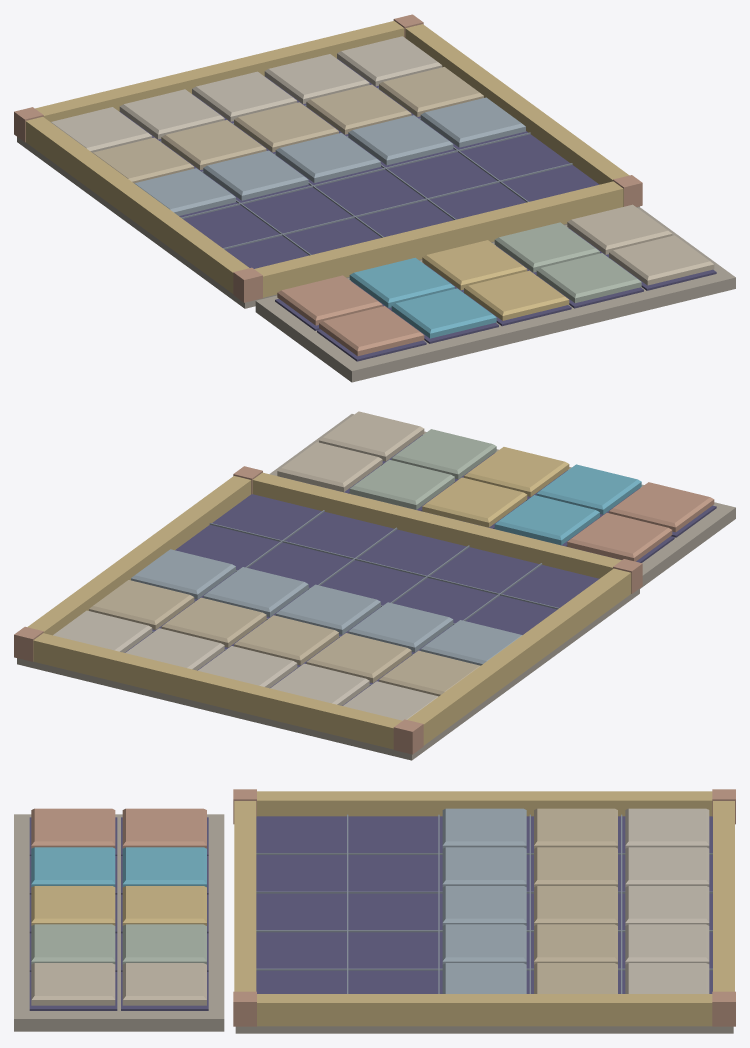
Rendered from assemble_5x5_with_rack_graybox.glb.
The picture shows the model from 3 angles, top to bottom: view 1: azimuth 30°, elevation 25°; view 2: azimuth 150°, elevation 25°; view 3: azimuth 270°, elevation 25°; orthographic projection. The views are drawn at different scales.
Visible parts, largest first — view 1: assemble.playfield, assemble.rack.base, assemble.frame.edge.south, assemble.frame.edge.west, assemble.frame.edge.north, assemble.frame.edge.east, assemble.piece.12.board, assemble.piece.24.rack, assemble.piece.11.board, assemble.piece.20.rack, assemble.piece.21.rack, assemble.piece.14.board (+25 smaller); view 2: assemble.playfield, assemble.frame.edge.north, assemble.frame.edge.south, assemble.frame.edge.west, assemble.frame.edge.east, assemble.support, assemble.piece.16.rack, assemble.piece.17.rack, assemble.piece.19.rack, assemble.piece.18.rack, assemble.piece.15.rack, assemble.piece.9.board (+23 smaller); view 3: assemble.playfield, assemble.frame.edge.east, assemble.rack.base, assemble.frame.edge.west, assemble.frame.edge.south, assemble.frame.edge.north, assemble.support, assemble.piece.24.rack, assemble.piece.19.rack, assemble.piece.0.board, assemble.piece.10.board, assemble.piece.20.rack (+28 smaller).
Boxes of the visible parts, box(x1,y1,x2,y2) form: assemble.playfield: box(120, 58, 598, 268); assemble.rack.base: box(255, 207, 735, 382); assemble.frame.edge.south: box(254, 181, 623, 297); assemble.frame.edge.west: box(25, 117, 249, 293); assemble.frame.edge.north: box(35, 21, 404, 121); assemble.frame.edge.east: box(405, 24, 629, 184); assemble.piece.12.board: box(275, 133, 380, 182); assemble.piece.24.rack: box(609, 235, 714, 285); assemble.piece.11.board: box(203, 150, 308, 200); assemble.piece.20.rack: box(319, 306, 424, 356); assemble.piece.21.rack: box(391, 288, 496, 338); assemble.piece.14.board: box(420, 97, 525, 147); assemble.playfield: box(125, 494, 599, 705); assemble.frame.edge.north: box(33, 633, 402, 749); assemble.frame.edge.south: box(252, 472, 621, 578); assemble.frame.edge.west: box(407, 568, 631, 745); assemble.frame.edge.east: box(27, 476, 251, 635); assemble.support: box(17, 588, 639, 760); assemble.piece.16.rack: box(494, 495, 599, 545); assemble.piece.17.rack: box(422, 477, 527, 527); assemble.piece.19.rack: box(277, 442, 382, 492); assemble.piece.18.rack: box(349, 459, 454, 509); assemble.piece.15.rack: box(567, 513, 672, 561); assemble.piece.9.board: box(89, 580, 194, 629); assemble.playfield: box(256, 816, 712, 993); assemble.frame.edge.east: box(257, 994, 712, 1026); assemble.rack.base: box(14, 814, 224, 1031); assemble.frame.edge.west: box(257, 791, 712, 816); assemble.frame.edge.south: box(234, 801, 256, 991); assemble.frame.edge.north: box(713, 801, 734, 991); assemble.support: box(235, 1026, 733, 1033); assemble.piece.24.rack: box(31, 963, 115, 1005); assemble.piece.19.rack: box(122, 963, 206, 1005); assemble.piece.0.board: box(625, 808, 709, 848); assemble.piece.10.board: box(442, 808, 526, 848); assemble.piece.20.rack: box(31, 808, 115, 848).
Bounding box in the file's own units: 5.5 × 0.405 × 7.9.
